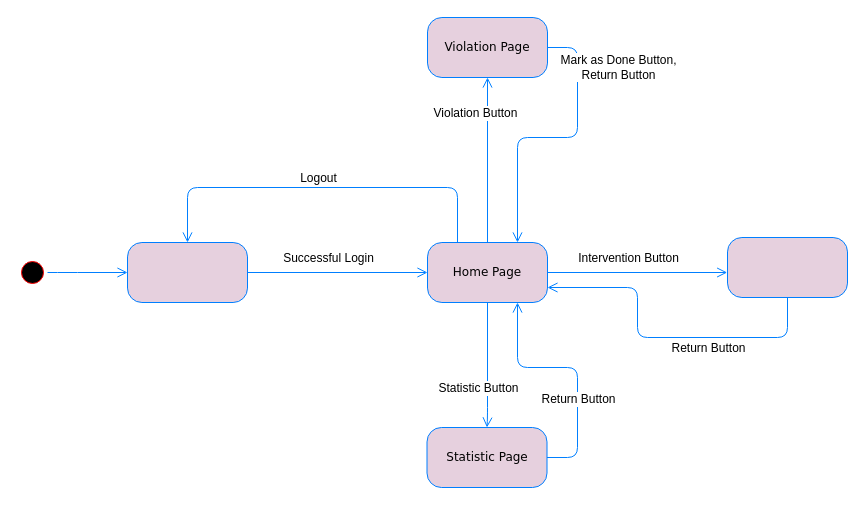
The diagram is 865 pixels wide and 505 high, and some of its shapes have lost their labels. The shapes that lost their labels are listed below. From the top down, each one's centre as x and y in pixels, then its label:
the point at 187,272: Login Page
the point at 787,267: Intervention Page
